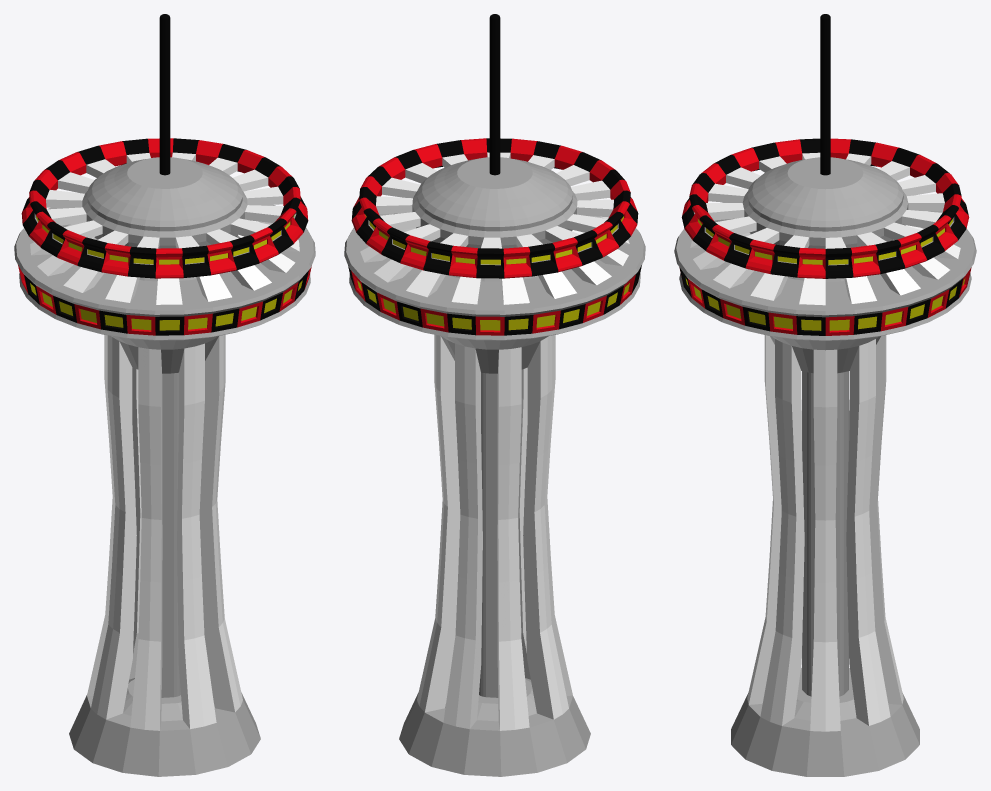
Rendered from Ivory Casino.fbx.
The picture shows the model from 3 angles, left to right: view 1: azimuth 30°, elevation 25°; view 2: azimuth 150°, elevation 25°; view 3: azimuth 270°, elevation 25°; orthographic projection.
Visible parts, largest first — view 1: Cylinder; view 2: Cylinder; view 3: Cylinder.
Boxes of the visible parts, x1,y1,x2,y2 form: Cylinder: (14,14,315,776); Cylinder: (344,14,645,776); Cylinder: (674,14,976,776).
Bounding box in the file's own units: 4317 × 11362 × 4317.
